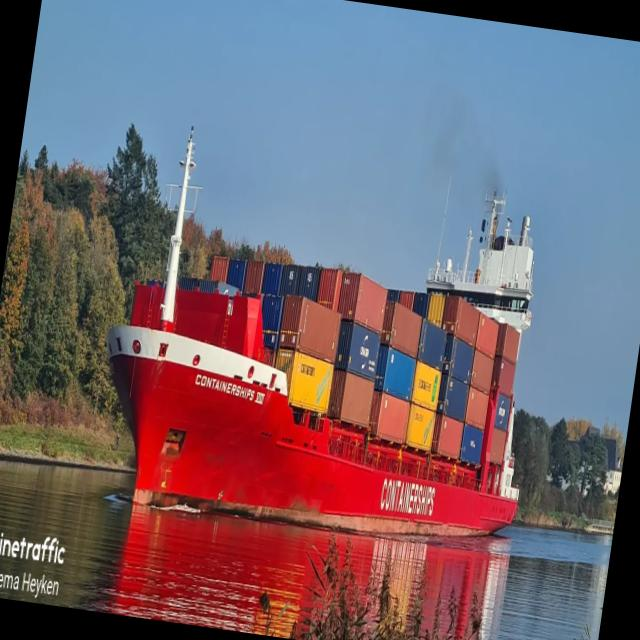Cargo: (106, 130, 533, 535)
